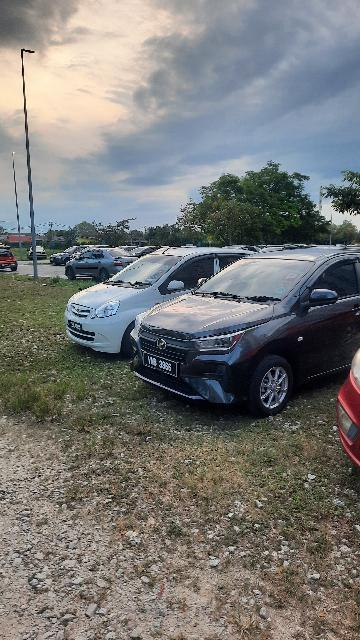License_Plate: (142, 350, 181, 381), (68, 320, 84, 334)
car: (132, 247, 360, 421), (62, 245, 284, 356)
